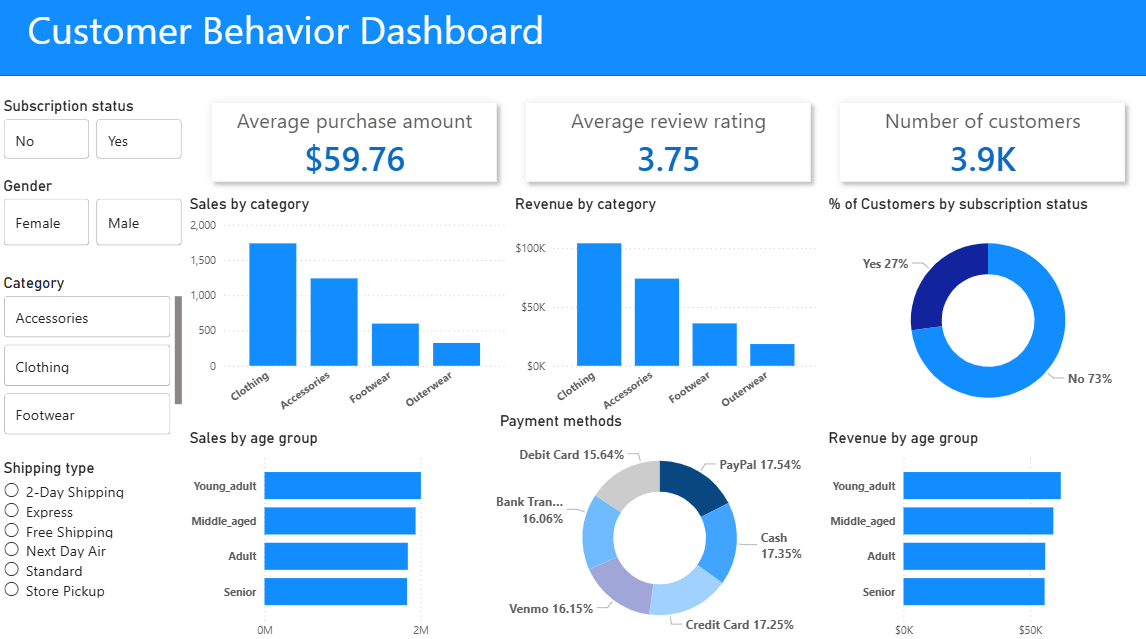

Layout of this report page (visuals, bound fields, positions):
{"tool":"powerbi","page":{"name":"Page 1","canvas":[1280,720],"ordinal":0},"visuals":[{"type":"cardVisual","fields":{"Data":["public customer.Average purchase amount","public customer.Average review rating","public customer.Number of customers"]},"box":[206,86,1074,146],"z":0},{"type":"shape","box":[0,0,1280,86.7],"z":1000},{"type":"textbox","box":[26.7,0,781.7,86.7],"z":2000},{"type":"donutChart","title":"% of Customers by subscription status","fields":{"Category":["public customer.subscription_status"],"Y":["CountNonNull(public customer.gender)"]},"box":[916,218,364,260],"z":3000},{"type":"clusteredColumnChart","title":"Revenue by category","fields":{"Y":["Sum(public customer.purchase_amount)"],"Category":["public customer.category"]},"box":[568,218,348,260],"z":4000},{"type":"clusteredColumnChart","title":"Sales  by category","fields":{"Y":["CountNonNull(public customer.customer_id)"],"Category":["public customer.category"]},"box":[206,218,362,260],"z":5000},{"type":"advancedSlicerVisual","title":"Subscription status","fields":{"Values":["public customer.subscription_status"]},"box":[0,110,208,74],"z":5001},{"type":"advancedSlicerVisual","title":"Gender","fields":{"Values":["public customer.gender"]},"box":[0,198,208,82],"z":5002},{"type":"advancedSlicerVisual","title":"Category","fields":{"Values":["public customer.category"]},"box":[0,306,208,186],"z":5003},{"type":"listSlicer","title":"Shipping type","fields":{"Values":["public customer.shipping_type"]},"box":[0,512,208,208],"z":5004},{"type":"clusteredBarChart","title":"Revenue by age group","fields":{"Category":["public customer.age_group"],"Y":["Sum(public customer.purchase_amount)"]},"box":[916,478,332,242],"z":5005},{"type":"clusteredBarChart","title":"Sales by age group","fields":{"Category":["public customer.age_group"],"Y":["Sum(public customer.customer_id)"]},"box":[206,478,362,242],"z":5006},{"type":"donutChart","title":"Payment methods","fields":{"Category":["public customer.payment_method"],"Y":["Sum(public customer.customer_id)"]},"box":[552,460,364,260],"z":5007}]}

Visuals, with their boxes in screenshot pixels (x1, y1, x2, y2), scaled from the page's 1280x720 canvas onto the 1146x639 screenshot:
cardVisual - public customer.Average purchase amount x public customer.Average review rating: 184/76/1145/206
shape: 0/0/1145/77
textbox: 24/0/724/77
"% of Customers by subscription status" donutChart: 820/193/1145/424
"Revenue by category" clusteredColumnChart: 509/193/820/424
"Sales  by category" clusteredColumnChart: 184/193/509/424
"Subscription status" advancedSlicerVisual: 0/98/186/163
"Gender" advancedSlicerVisual: 0/176/186/248
"Category" advancedSlicerVisual: 0/272/186/437
"Shipping type" listSlicer: 0/454/186/638
"Revenue by age group" clusteredBarChart: 820/424/1117/638
"Sales by age group" clusteredBarChart: 184/424/509/638
"Payment methods" donutChart: 494/408/820/638
